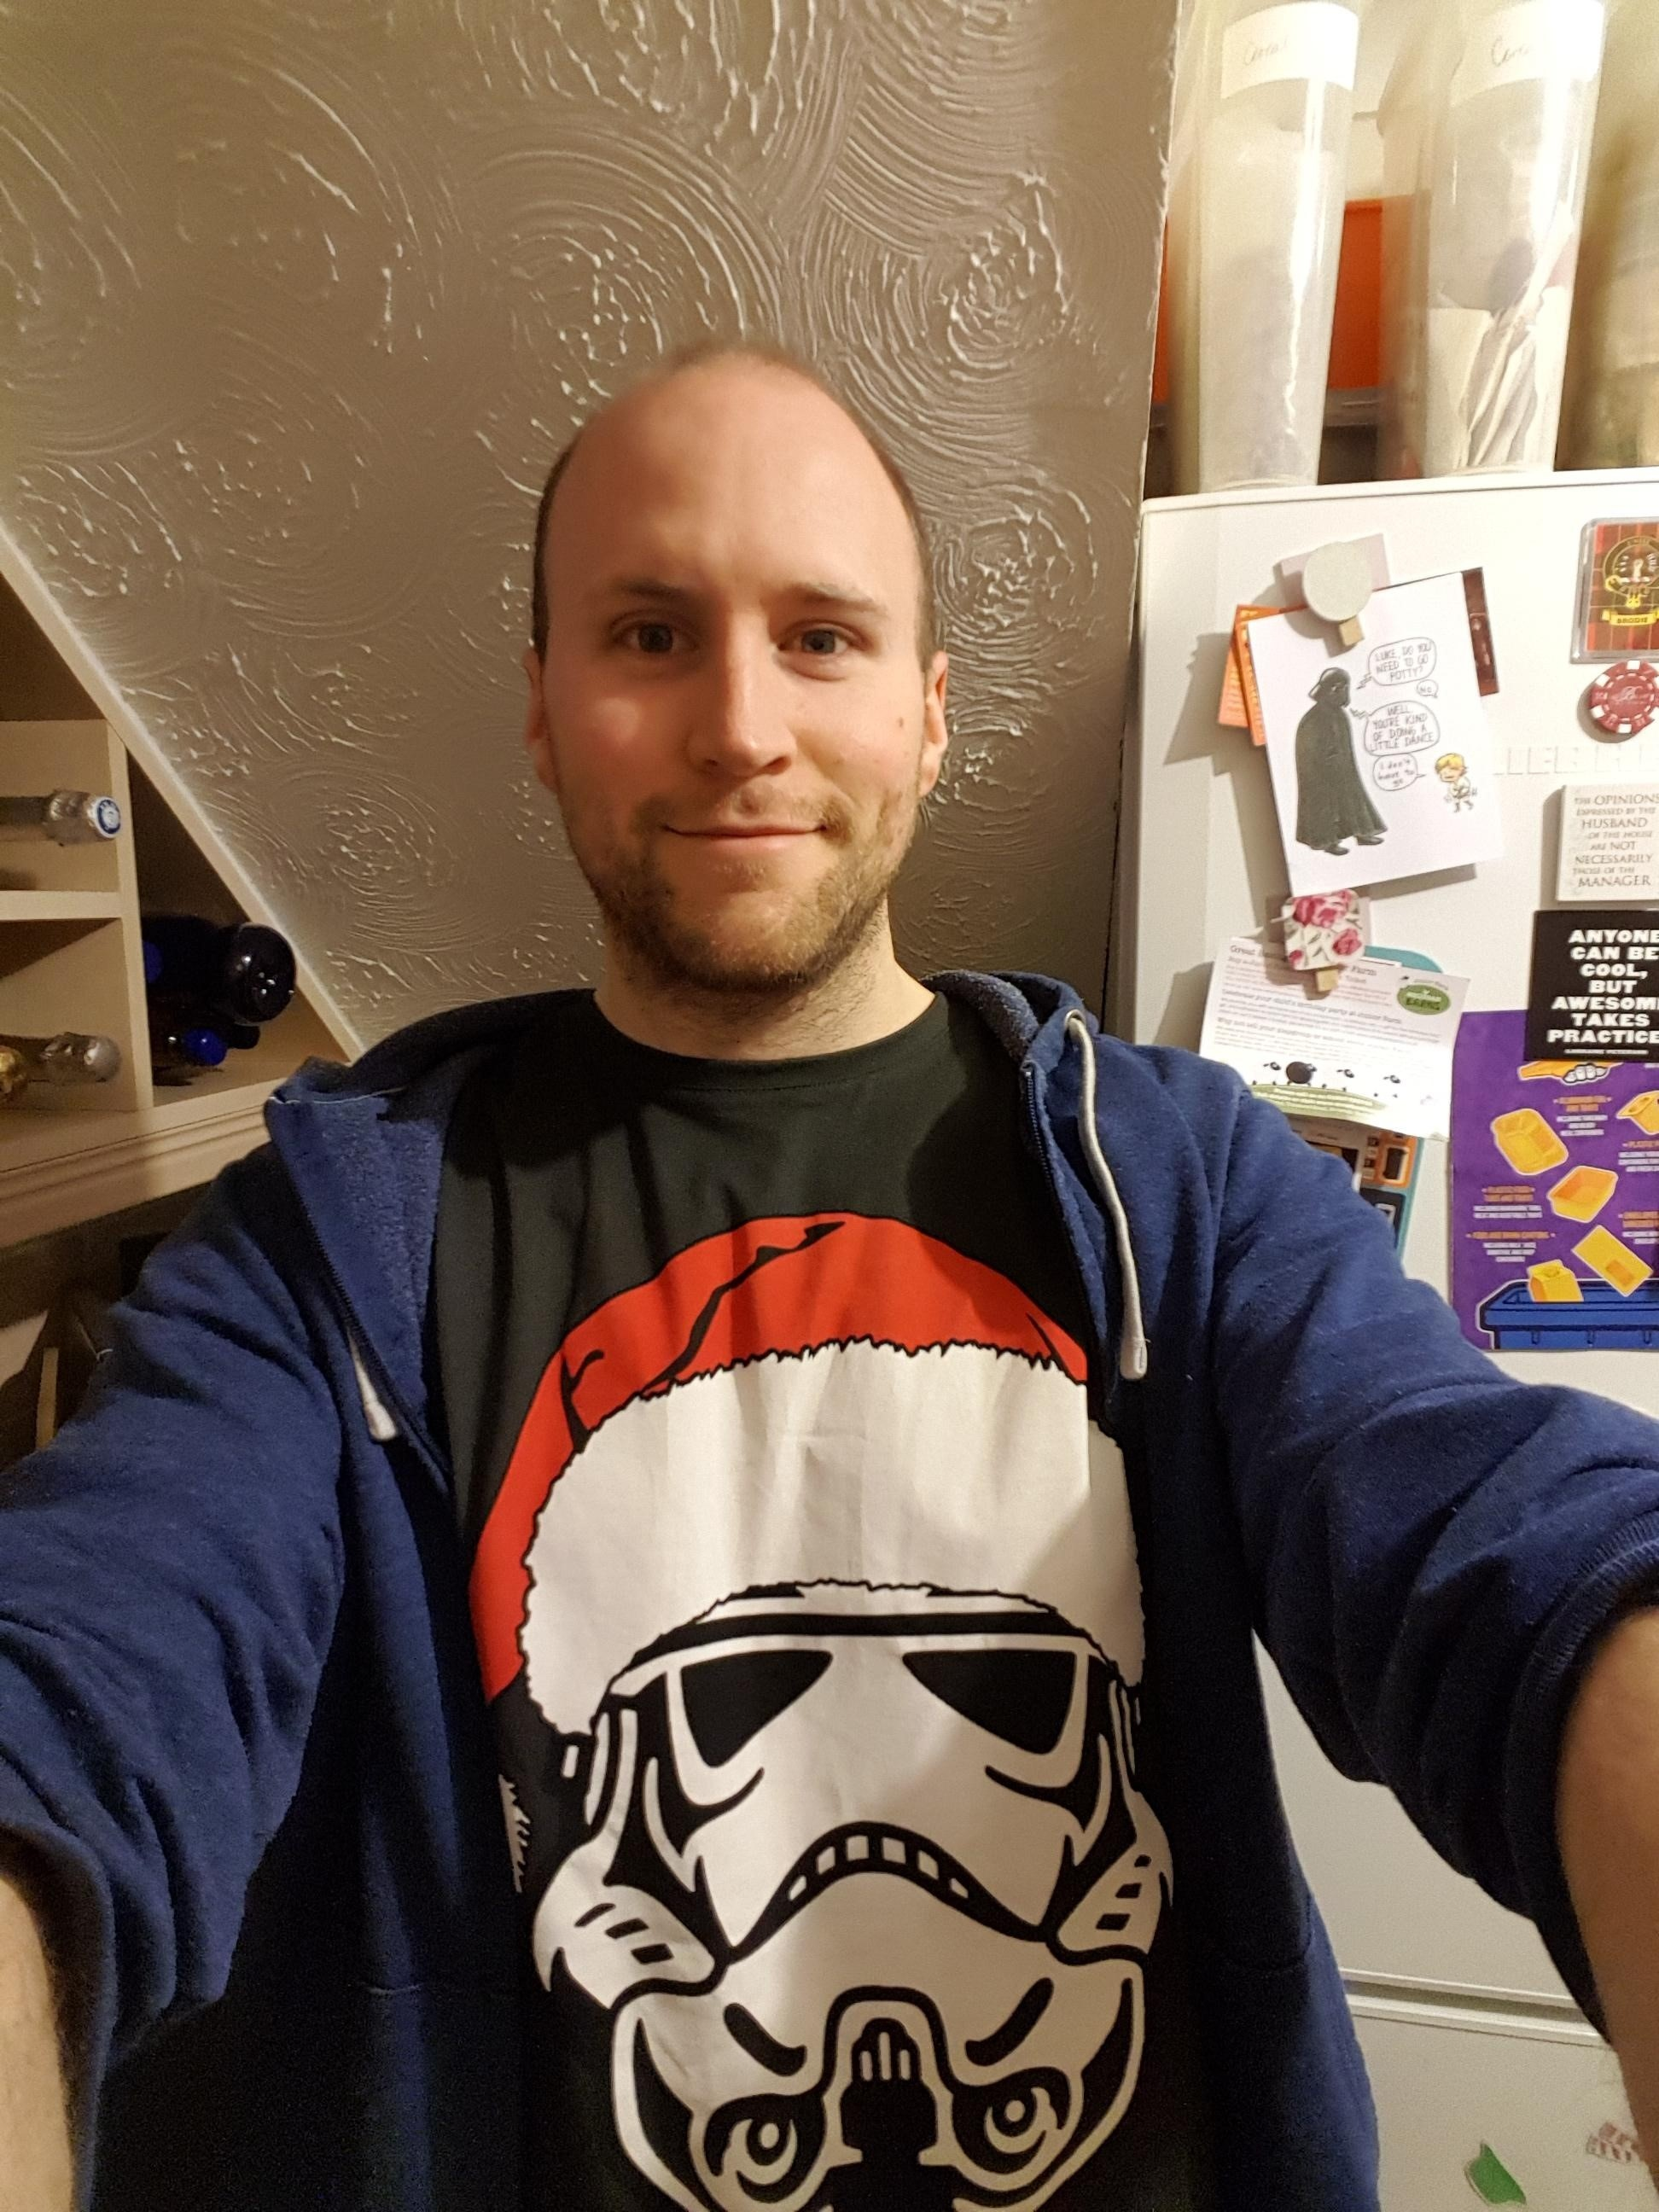face_no_mask: (527, 358, 950, 972)
